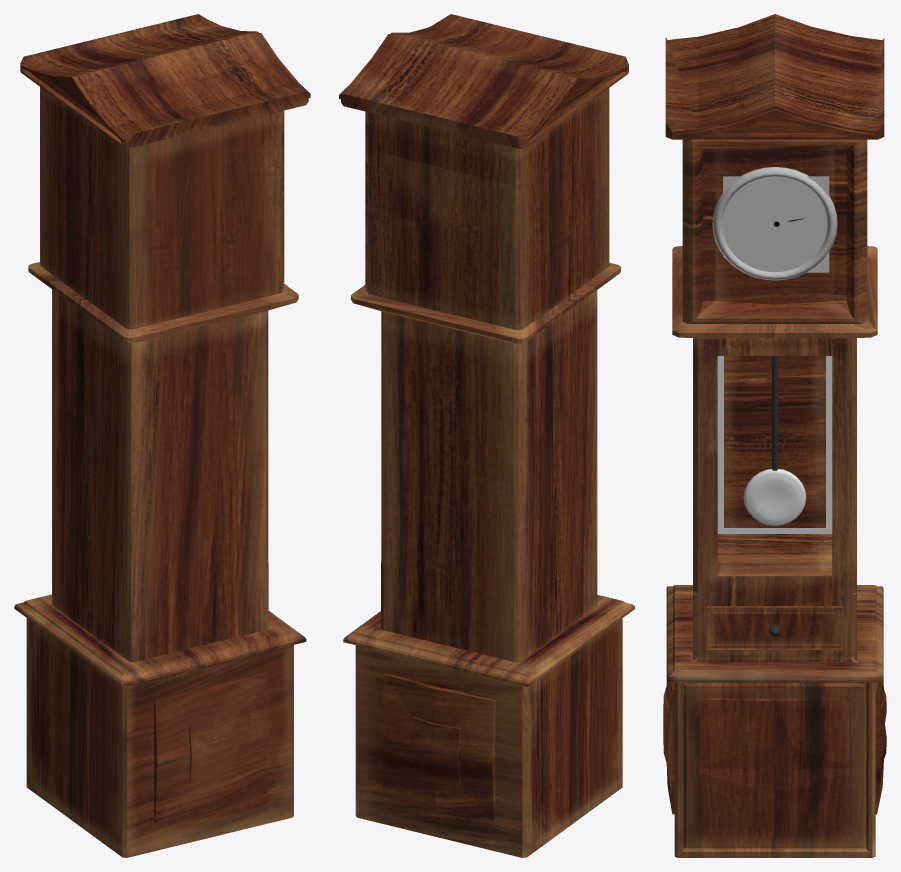
Rendered from clock1.fbx.
3 renders of one model, left to right at view 1: azimuth 30°, elevation 25°; view 2: azimuth 150°, elevation 25°; view 3: azimuth 270°, elevation 25°, orthographic.
Visible parts, largest first — view 1: 3; view 2: 3; view 3: 3, Cube, Cube.003.
Part boxes in pixels (x1,y1,x2,y2): 3: (14, 14, 310, 857); 3: (339, 14, 634, 857); 3: (663, 14, 886, 857); Cube: (707, 606, 842, 648); Cube.003: (743, 356, 806, 525).
Bounding box in the file's own units: 226 × 832 × 222.
